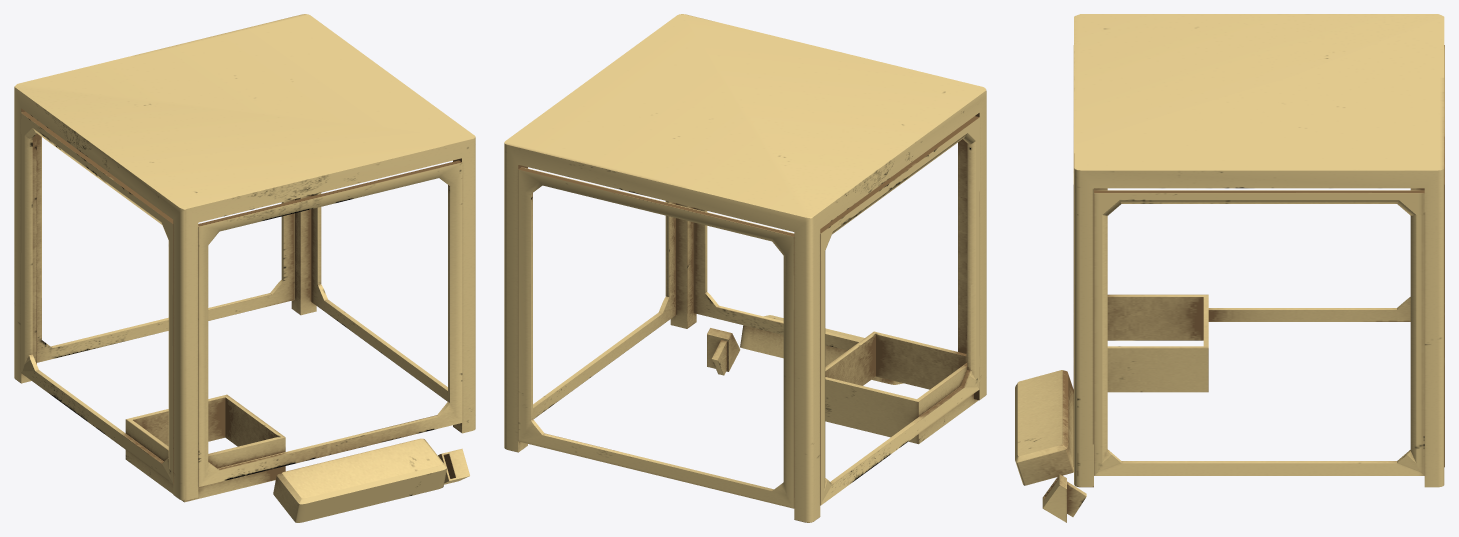
Rendered from ufo_base_frame.fbx.
3 views of the same model, side by side, from view 1: azimuth 30°, elevation 25°; view 2: azimuth 150°, elevation 25°; view 3: azimuth 270°, elevation 25° (orthographic). The views are drawn at different scales.
Parts seen in each view (by area): view 1: frame.040; view 2: frame.040; view 3: frame.040.
Part boxes in pixels (x1,y1,x2,y2): frame.040: [14, 14, 475, 522]; frame.040: [504, 14, 986, 522]; frame.040: [1015, 14, 1444, 522].
Size of the model in its own units: 569 by 619 by 659.
